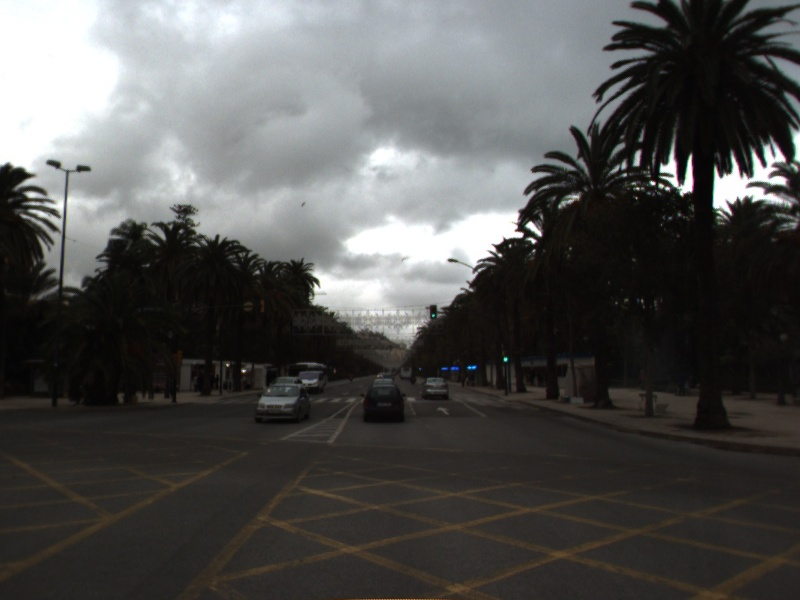STRAIGHT: (434, 404, 453, 417)
